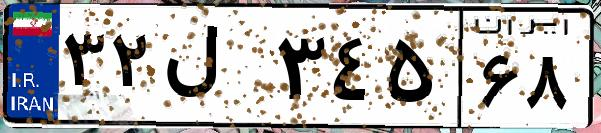2: (110, 28, 158, 98)
3: (270, 28, 330, 110), (57, 26, 110, 100)
4: (330, 28, 385, 110)
5: (385, 28, 445, 110)
6: (475, 38, 525, 113)
8: (525, 38, 570, 115)
ل: (158, 20, 270, 120)
